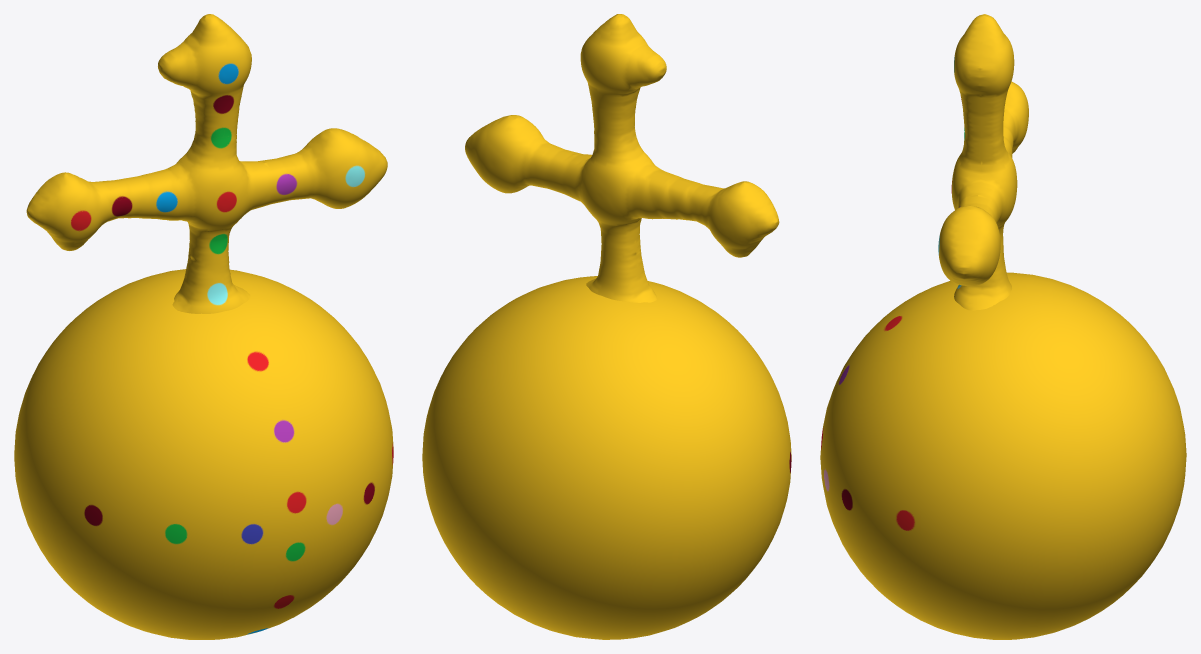
File: relic.fbx
3 views of the same model, side by side, from view 1: azimuth 30°, elevation 25°; view 2: azimuth 150°, elevation 25°; view 3: azimuth 270°, elevation 25° (orthographic). The views are drawn at different scales.
Parts seen in each view (by area): view 1: root (×2); view 2: root (×2); view 3: root (×2).
Part boxes in pixels (left/top/right/bottom): root (×2): left=14, top=14, right=393, bottom=639; root (×2): left=422, top=14, right=791, bottom=639; root (×2): left=820, top=14, right=1186, bottom=639.
Bounding box in the file's own units: 0.3354 × 0.5792 × 0.3175.
Materials: 2 (2 with a texture image).
